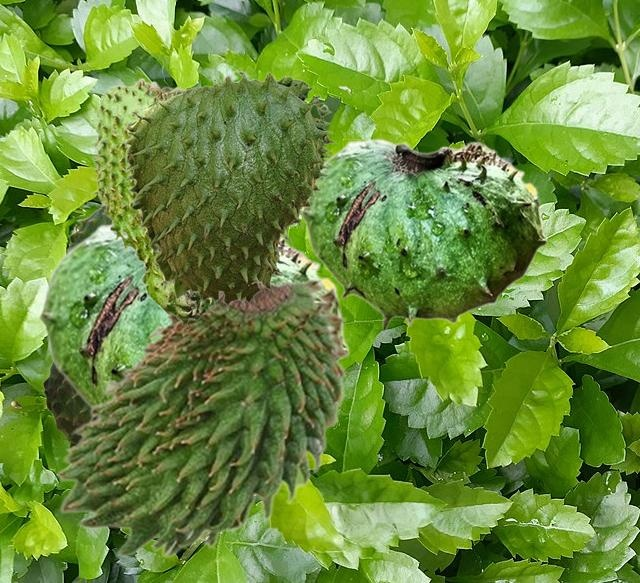guyabano: (54, 275, 349, 557), (38, 221, 349, 419), (124, 69, 336, 311), (300, 138, 547, 332), (90, 77, 218, 325), (41, 205, 110, 445)
